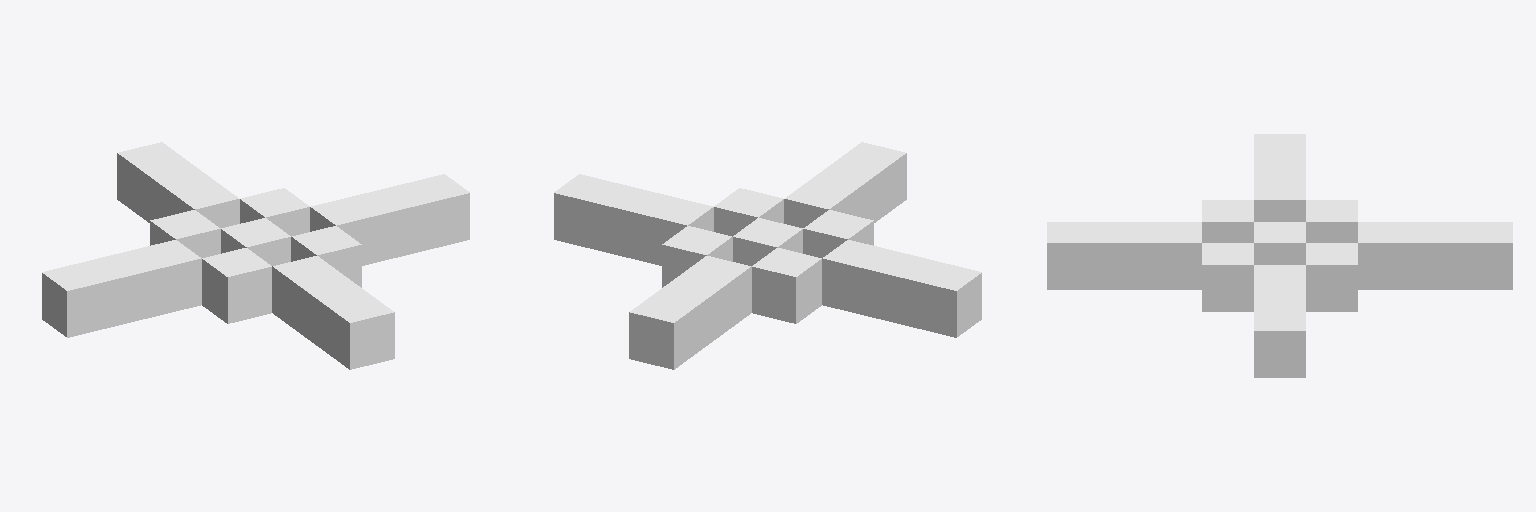
Rendered from prop2.obj.
3 renders of one model, left to right at view 1: azimuth 30°, elevation 25°; view 2: azimuth 150°, elevation 25°; view 3: azimuth 270°, elevation 25°, orthographic.
Size of the model in its own units: 9 by 1 by 9.